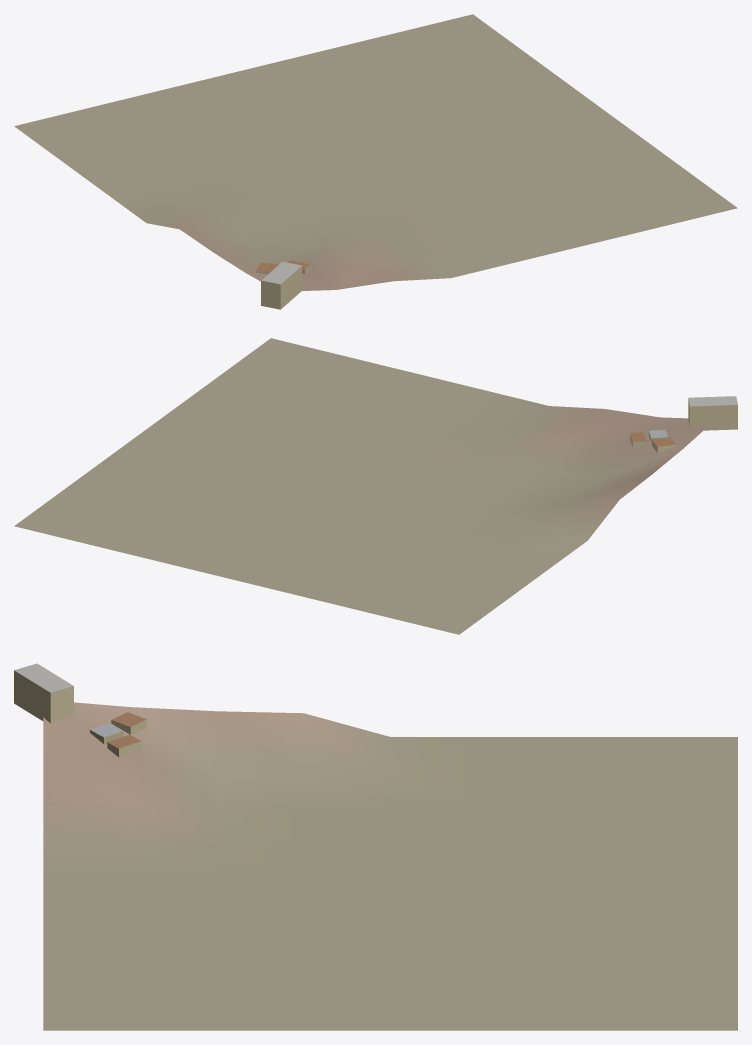
The picture shows the model from 3 angles, top to bottom: view 1: azimuth 30°, elevation 25°; view 2: azimuth 150°, elevation 25°; view 3: azimuth 270°, elevation 25°; orthographic projection. The views are drawn at different scales.
Parts seen in each view (by area): view 1: Lo; view 2: Lo; view 3: Lo.
Part boxes in pixels (x1=…): Lo: x1=14, y1=14, x2=737, y2=309; Lo: x1=14, y1=338, x2=737, y2=634; Lo: x1=14, y1=663, x2=737, y2=1030.
Bounding box in the file's own units: 267 × 24.67 × 267.
